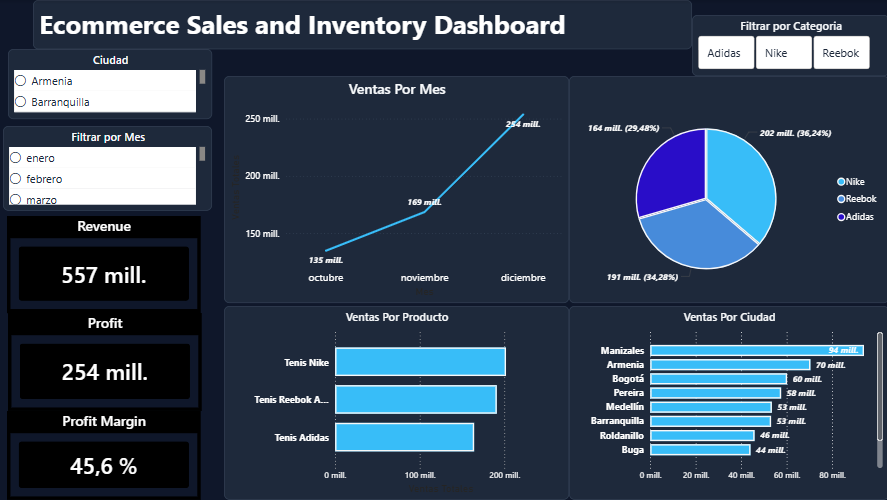

What the dashboard file says about the page in this screenshot:
{"tool":"powerbi","page":{"name":"Página 1","canvas":[1280,720],"ordinal":0},"visuals":[{"type":"cardVisual","title":"Revenue","fields":{"Data":["ecommerce_sales.Ventas Totales"]},"box":[10.1,311,279.4,139.7],"z":0},{"type":"cardVisual","title":"Profit","fields":{"Data":["ecommerce_sales.Utilidad"]},"box":[11.5,450.7,279.4,141.1],"z":1000},{"type":"cardVisual","title":"Profit Margin","fields":{"Data":["ecommerce_sales.Margen %"]},"box":[10.1,591.8,279.4,128.2],"z":2000},{"type":"lineChart","title":"Ventas Por Mes","fields":{"Category":["ecommerce_sales.Fecha.Variación.Jerarquía de fechas.Mes"],"Y":["ecommerce_sales.Ventas Totales"]},"box":[322.6,109.4,496.8,326.9],"z":3000},{"type":"clusteredBarChart","title":"Ventas Por Producto","fields":{"Category":["ecommerce_sales.Producto"],"Y":["ecommerce_sales.Ventas Totales"]},"box":[322.6,440.6,496.8,279.4],"z":4000},{"type":"clusteredBarChart","title":"Ventas Por Ciudad","fields":{"Y":["ecommerce_sales.Ventas Totales"],"Category":["ecommerce_sales.Ciudad"]},"box":[819.4,440.6,460.8,279.4],"z":5000},{"type":"pieChart","title":" ","fields":{"Category":["ecommerce_sales.Categoria"],"Y":["ecommerce_sales.Ventas Totales"]},"box":[819.4,109.4,460.8,326.9],"z":6000},{"type":"listSlicer","title":"Filtrar por Mes","fields":{"Values":["ecommerce_sales.Fecha.Variación.Jerarquía de fechas.Mes"]},"box":[4.3,181.4,301,122.4],"z":7000},{"type":"listSlicer","fields":{"Values":["ecommerce_sales.Ciudad"]},"box":[11.5,70.6,293.8,100.8],"z":8000},{"type":"advancedSlicerVisual","title":"Filtrar por Categoria","fields":{"Values":["ecommerce_sales.Categoria"]},"box":[996.5,21.6,283.7,87.8],"z":9000},{"type":"textbox","box":[47.5,0,949,70.6],"z":10000}]}

Visuals, with their boxes in screenshot pixels (x1, y1, x2, y2), scaled from the page's 1280x720 canvas onto the 887x500 screenshot:
"Revenue" cardVisual: [7, 216, 201, 313]
"Profit" cardVisual: [8, 313, 202, 411]
"Profit Margin" cardVisual: [7, 411, 201, 499]
"Ventas Por Mes" lineChart: [224, 76, 568, 303]
"Ventas Por Producto" clusteredBarChart: [224, 306, 568, 499]
"Ventas Por Ciudad" clusteredBarChart: [568, 306, 886, 499]
" " pieChart: [568, 76, 886, 303]
"Filtrar por Mes" listSlicer: [3, 126, 212, 211]
listSlicer - ecommerce_sales.Ciudad: [8, 49, 212, 119]
"Filtrar por Categoria" advancedSlicerVisual: [691, 15, 886, 76]
textbox: [33, 0, 691, 49]
